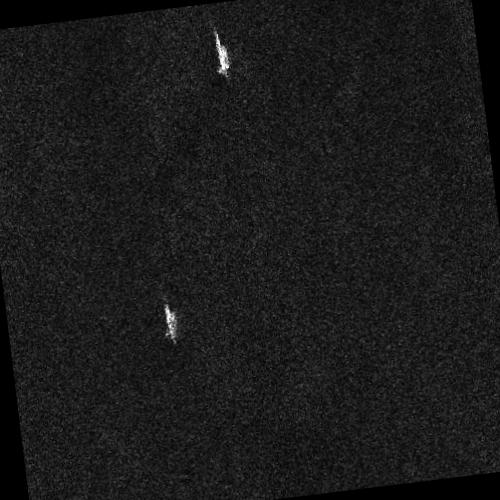ship: (215, 32, 229, 76), (164, 303, 177, 344)
